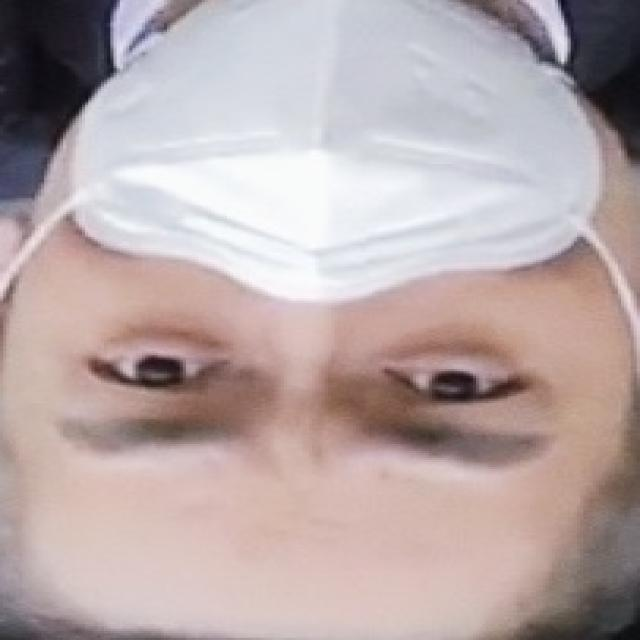mask: (14, 19, 613, 306)
